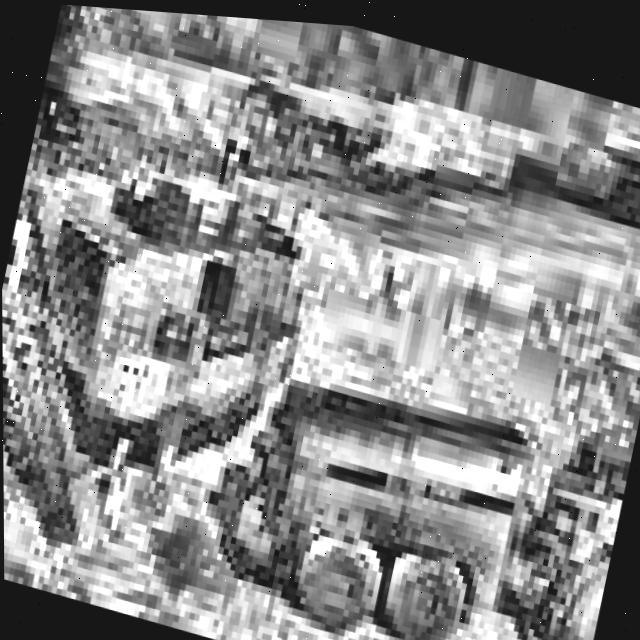dump_truck: (572, 86, 640, 252)
excavator: (0, 0, 371, 640)
